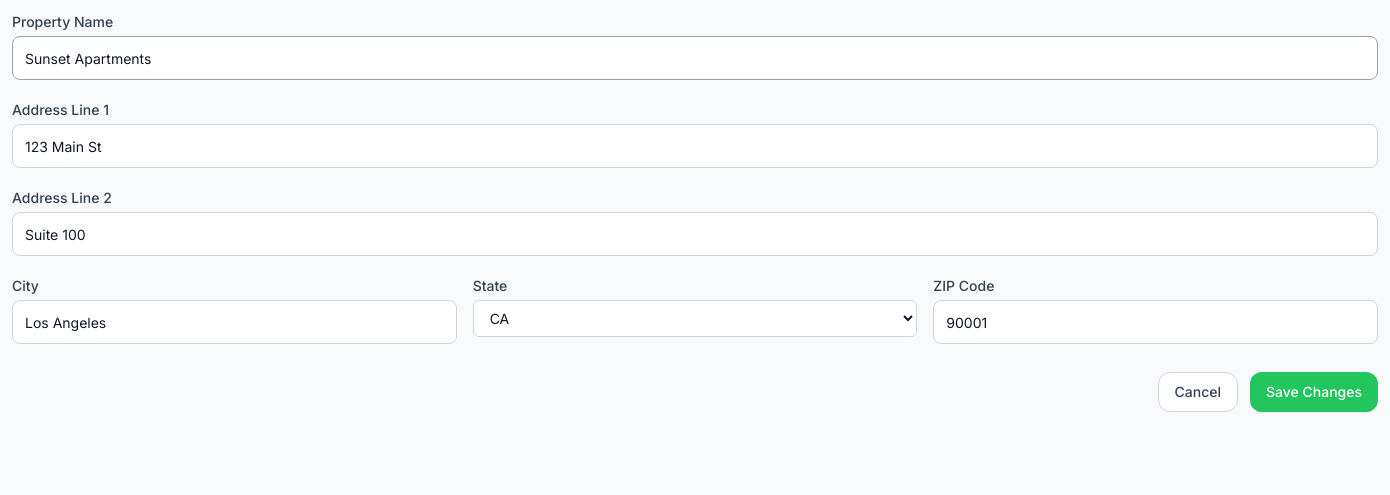
Test: PropertyForm › shows server error on submit failure
The width and height of the screenshot is (1390, 495).
Click the button "Save Changes" at (1314, 392), box [1250,372,1378,412]
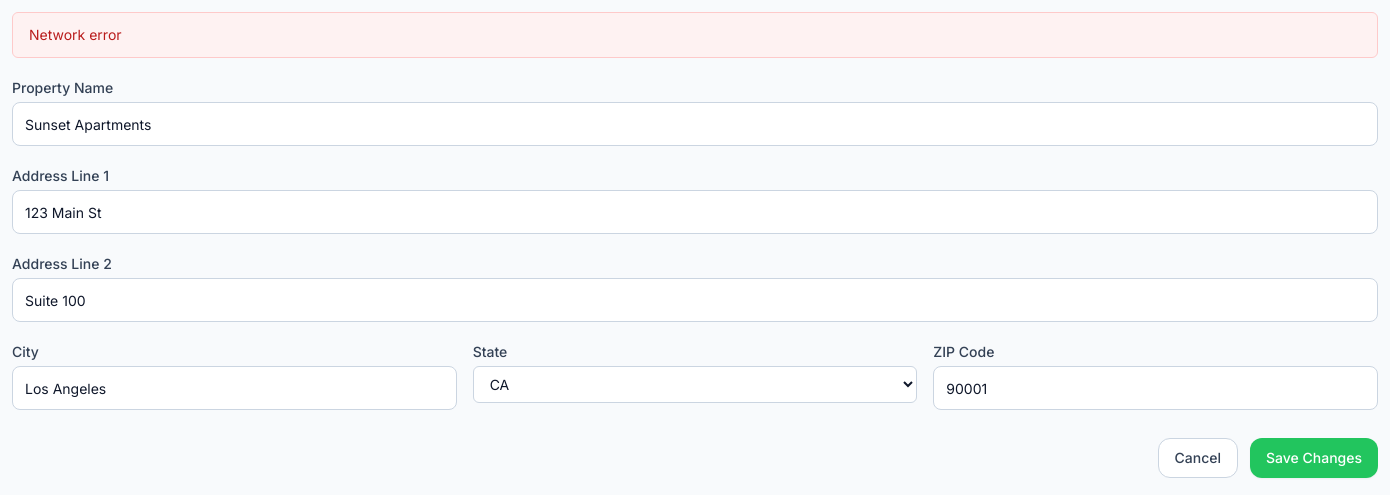
Now the message reads "Network error", box [29,26,122,43]
